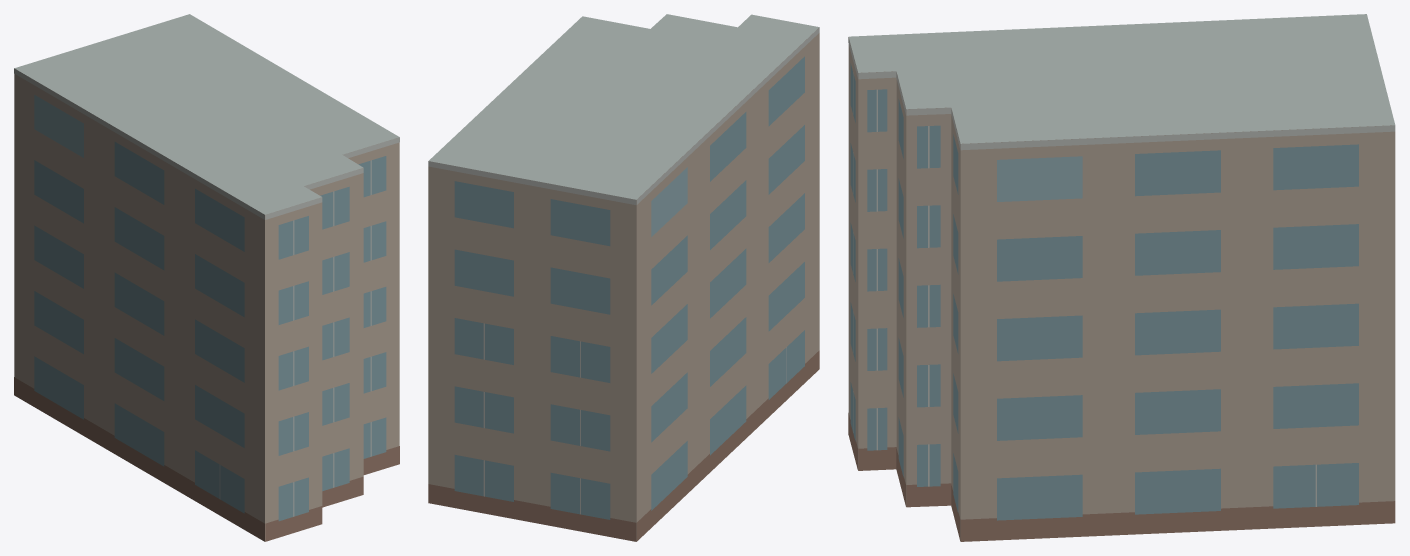
Rendered from survey-upis-32764177.glb.
3 renders of one model, left to right at view 1: azimuth 30°, elevation 25°; view 2: azimuth 150°, elevation 25°; view 3: azimuth 270°, elevation 25°, orthographic. The views are drawn at different scales.
Visible parts, largest first — view 1: survey-upis-32764177.tmp; view 2: survey-upis-32764177.tmp; view 3: survey-upis-32764177.tmp.
Boxes of the visible parts, left/top/right/bottom form: survey-upis-32764177.tmp: left=14, top=14, right=399, bottom=541; survey-upis-32764177.tmp: left=428, top=14, right=819, bottom=541; survey-upis-32764177.tmp: left=848, top=14, right=1395, bottom=541.
Size of the model in its own units: 10.64 by 15.2 by 18.94.
